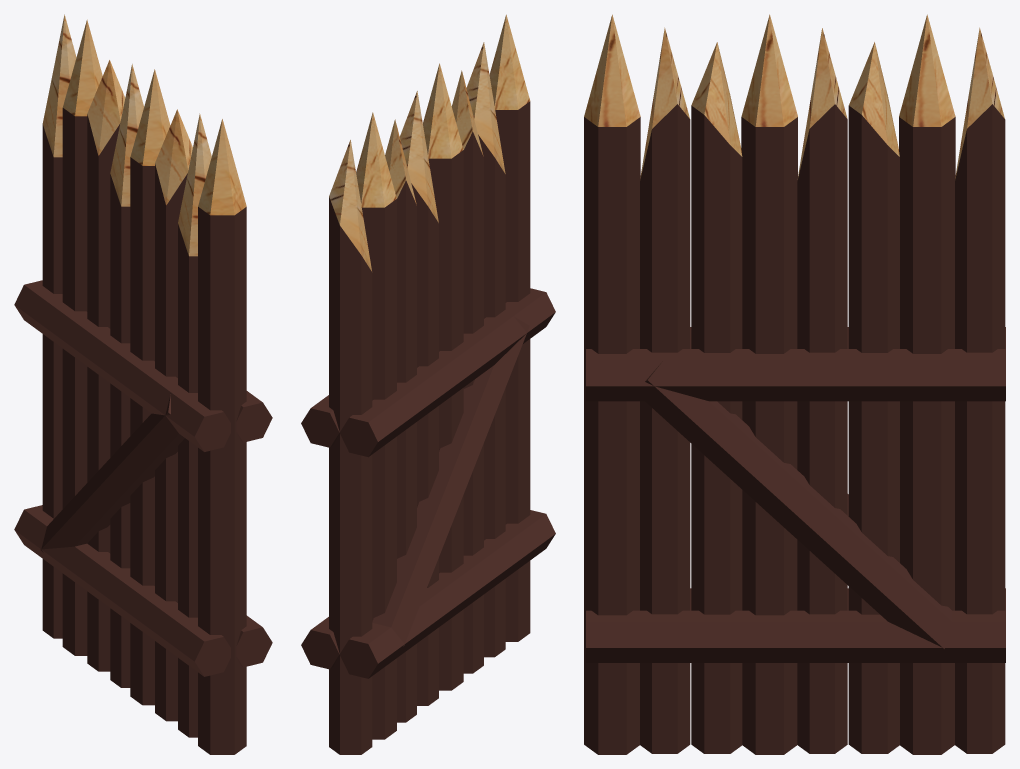
Rendered from Door_05.fbx.
3 renders of one model, left to right at view 1: azimuth 30°, elevation 25°; view 2: azimuth 150°, elevation 25°; view 3: azimuth 270°, elevation 25°, orthographic. The views are drawn at different scales.
Parts seen in each view (by area): view 1: Door_05; view 2: Door_05; view 3: Door_05.
Boxes of the visible parts, <box> form: Door_05: <box>14,14,272,754</box>; Door_05: <box>301,14,555,754</box>; Door_05: <box>584,14,1005,754</box>.
Size of the model in its own units: 76 by 584 by 306.
